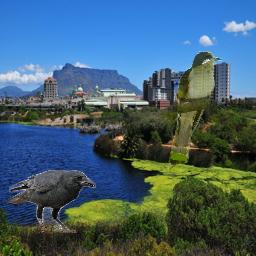Crow: (5, 170, 96, 233)
Cuckoo: (168, 51, 223, 173)
